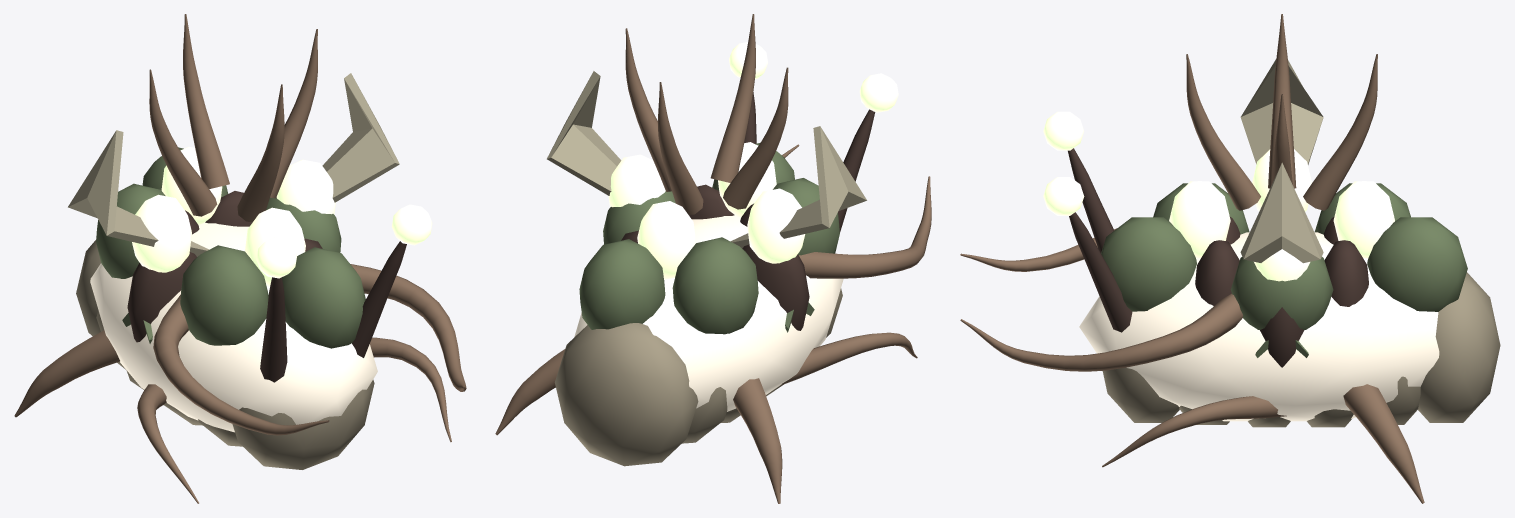
File: broodmother.glb
3 views of the same model, side by side, from view 1: azimuth 30°, elevation 25°; view 2: azimuth 150°, elevation 25°; view 3: azimuth 270°, elevation 25° (orthographic). The views are drawn at different scales.
Parts seen in each view (by area): view 1: Brood pod, EnemyCore, Mobility frill, Crown growth, Enlarged spore sac, Extended strike tendril, Layered bark plate, Feelers.001, Feelers; view 2: Brood pod, EnemyCore, Mobility frill, Crown growth, Enlarged spore sac, Layered bark plate, Extended strike tendril, Feelers; view 3: Brood pod, EnemyCore, Mobility frill, Enlarged spore sac, Crown growth, Extended strike tendril, Layered bark plate, Feelers.001.
Part boxes in pixels (box(x1,y1,x2,y2)): Brood pod: box(76, 147, 432, 469); EnemyCore: box(90, 222, 377, 432); Mobility frill: box(14, 73, 399, 417); Crown growth: box(149, 14, 317, 222); Enlarged spore sac: box(132, 146, 335, 287); Extended strike tendril: box(153, 264, 466, 435); Layered bark plate: box(127, 191, 322, 342); Feelers.001: box(370, 337, 451, 442); Feelers: box(137, 384, 198, 503); Brood pod: box(554, 42, 898, 466); EnemyCore: box(574, 215, 843, 411); Mobility frill: box(495, 71, 866, 503); Crown growth: box(625, 14, 788, 214); Enlarged spore sac: box(608, 142, 805, 279); Layered bark plate: box(621, 184, 809, 330); Extended strike tendril: box(782, 144, 931, 278); Feelers: box(780, 332, 917, 385); Brood pod: box(1043, 111, 1500, 427); EnemyCore: box(1079, 232, 1439, 421); Mobility frill: box(1240, 59, 1424, 503); Enlarged spore sac: box(1169, 149, 1394, 281); Crown growth: box(1186, 14, 1377, 210); Extended strike tendril: box(960, 228, 1242, 371); Layered bark plate: box(1195, 216, 1368, 367); Feelers.001: box(1102, 396, 1286, 467).
Bounding box in the file's own units: 1.31 × 1.63 × 2.1.
